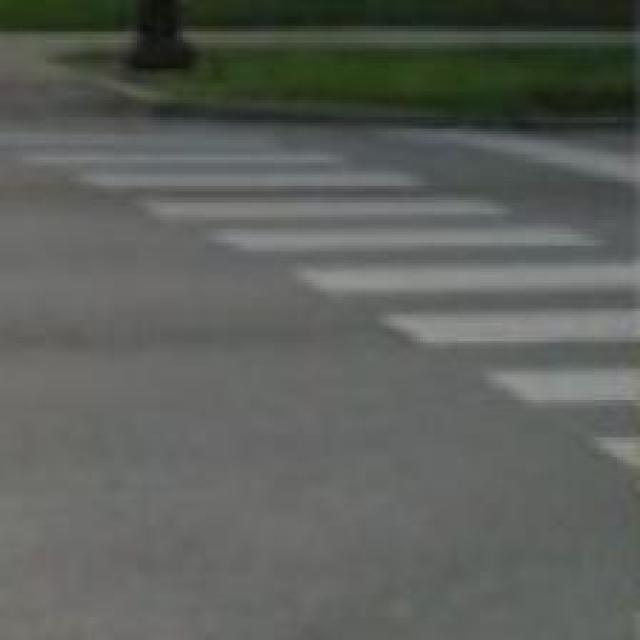walk-crossing: (62, 131, 634, 594)
